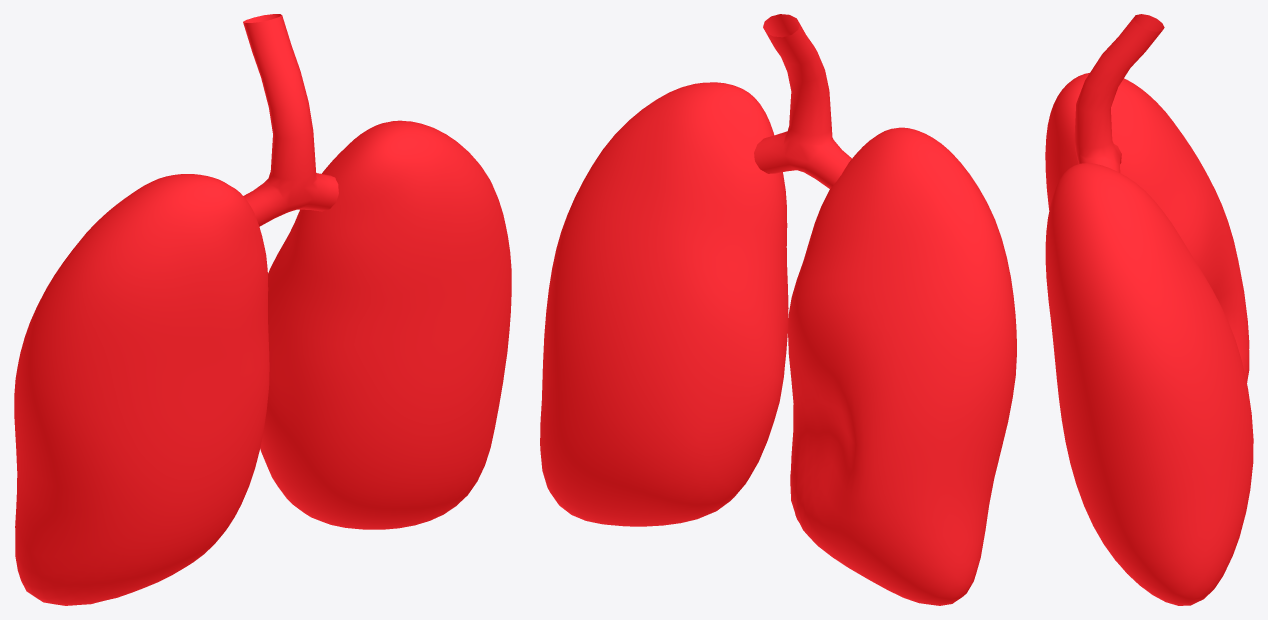
Rendered from new_lungs.fbx.
The picture shows the model from 3 angles, left to right: view 1: azimuth 30°, elevation 25°; view 2: azimuth 150°, elevation 25°; view 3: azimuth 270°, elevation 25°; orthographic projection. The views are drawn at different scales.
Visible parts, largest first — view 1: male_lungs.002; view 2: male_lungs.002; view 3: male_lungs.002.
Boxes of the visible parts, x1=… form: male_lungs.002: x1=14, y1=14, x2=511, y2=605; male_lungs.002: x1=540, y1=14, x2=1016, y2=605; male_lungs.002: x1=1045, y1=14, x2=1253, y2=605.
Bounding box in the file's own units: 25 × 27.99 × 10.45.
